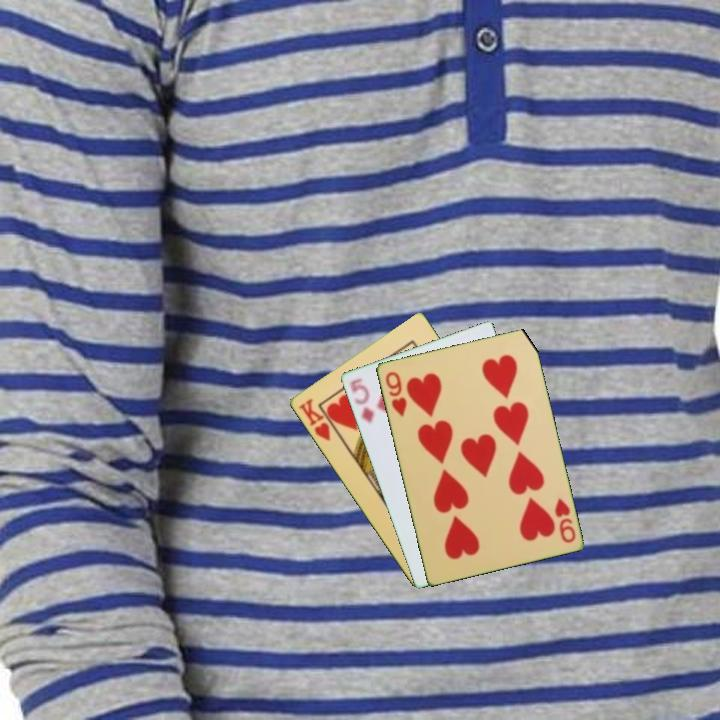5d: (346, 375, 377, 426)
9h: (381, 368, 409, 420), (551, 494, 578, 546)
Kh: (294, 395, 342, 444)
